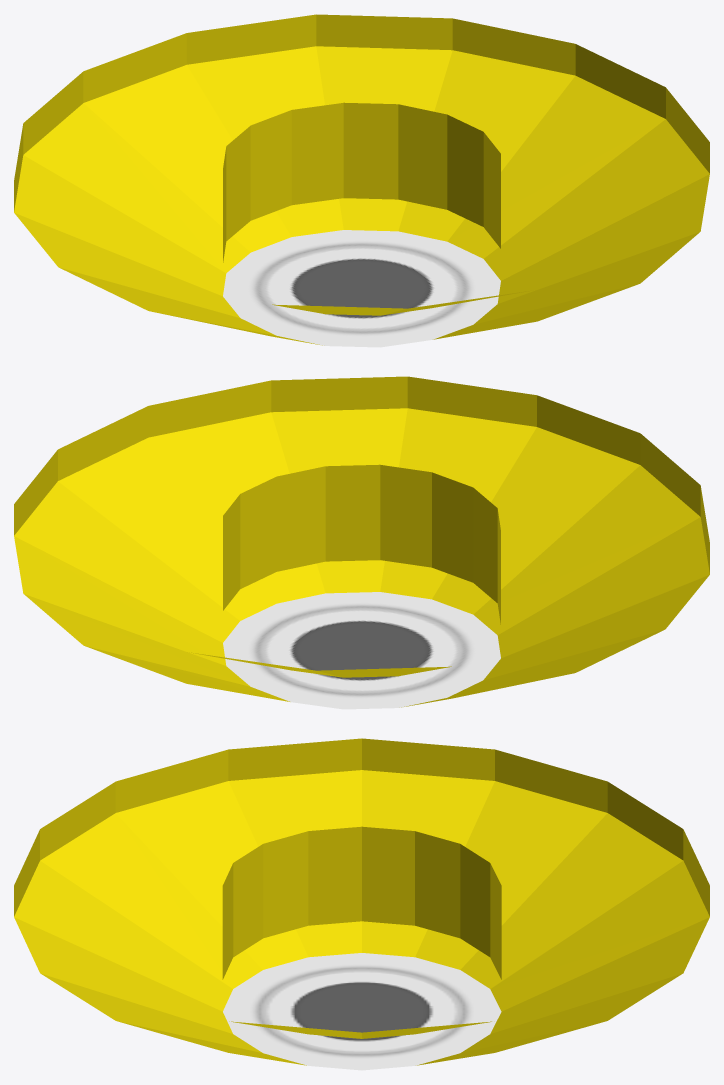
The picture shows the model from 3 angles, top to bottom: view 1: azimuth 30°, elevation 25°; view 2: azimuth 150°, elevation 25°; view 3: azimuth 270°, elevation 25°; orthographic projection.
Parts seen in each view (by area): view 1: 005_L_474000_PART_1; view 2: 005_L_474000_PART_1; view 3: 005_L_474000_PART_1.
Boxes of the visible parts, x1,y1,x2,y2 form: 005_L_474000_PART_1: [14, 14, 709, 347]; 005_L_474000_PART_1: [14, 376, 709, 709]; 005_L_474000_PART_1: [14, 738, 709, 1070].
Size of the model in its own units: 1.6 by 0.32 by 1.6.
Materials: 3 (1 with a texture image).
